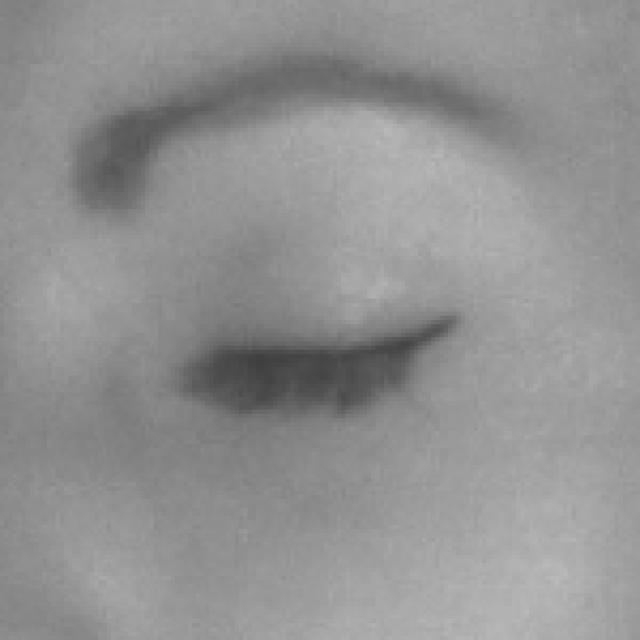Eyeclosed: (197, 224, 456, 529)
